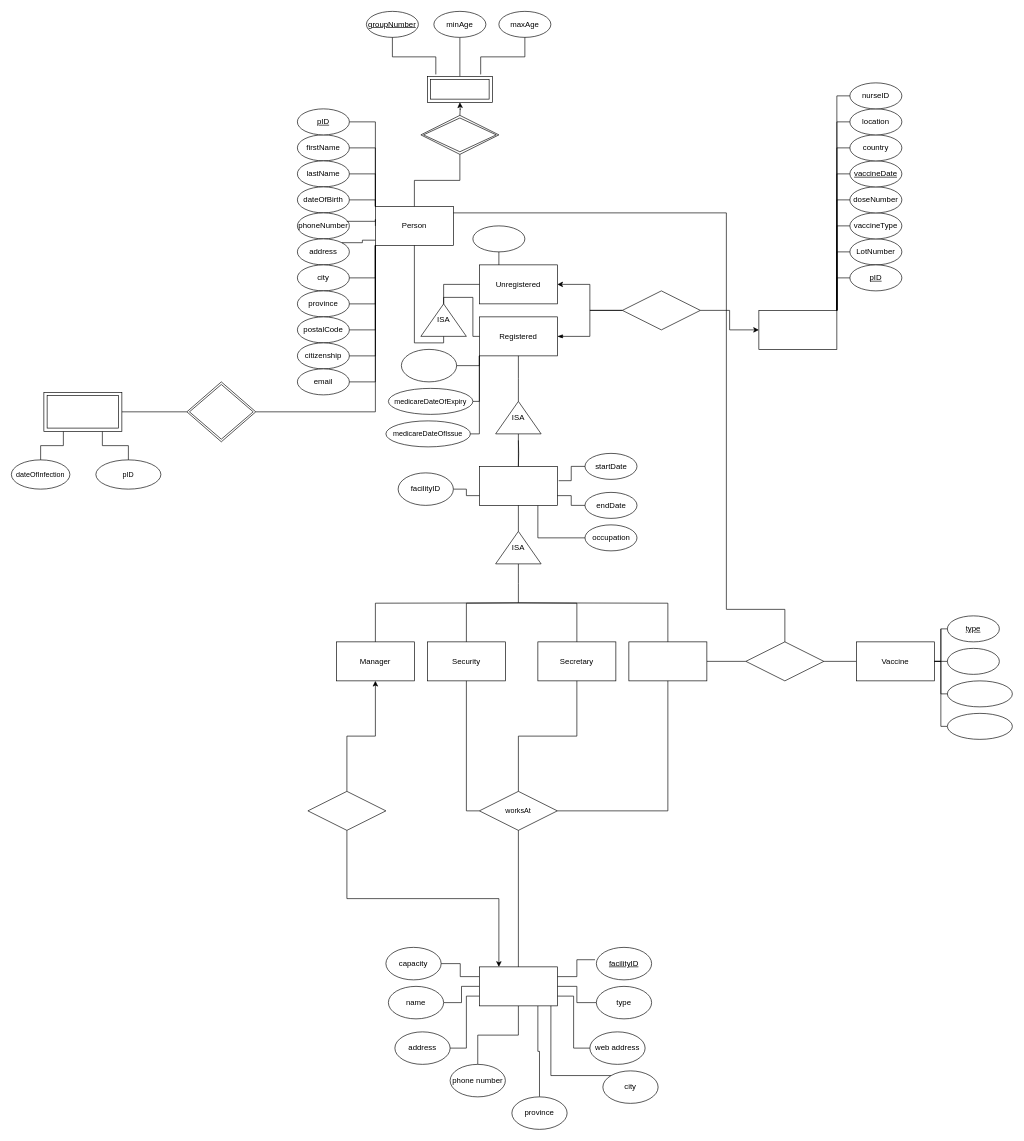
Image size: 1024x1141. Some labels were removed from this diagram. The centre of each missing label's shape, as x and y in pixels:
administers: the point at 784,661
Age Group: the point at 459,89
BelongsTo: the point at 459,134
dateOfApproval: the point at 979,693
dateOfSuspension: the point at 979,726
hasBeenVaccinated: the point at 661,310
infectedBy: the point at 221,411
InfectionHistory: the point at 82,411
manages: the point at 346,810
medicareNum: the point at 429,365
Nurse: the point at 667,661
passportNum: the point at 498,238
PublicHealthWorker: the point at 518,485
status: the point at 973,661
Vaccination Facility: the point at 518,986
VaccineRecord: the point at 797,329
